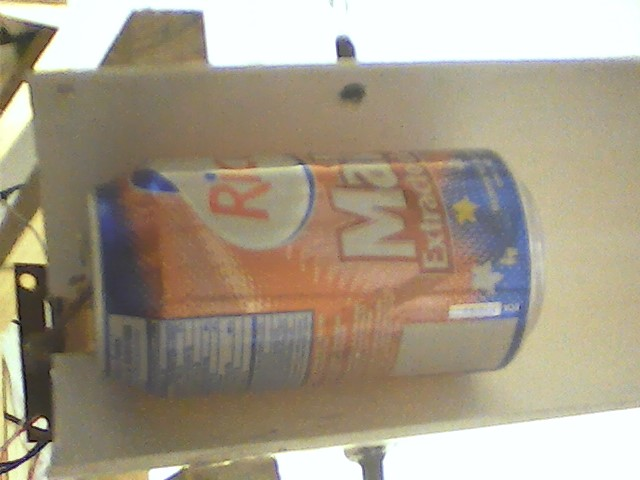lata: (82, 143, 552, 404)
